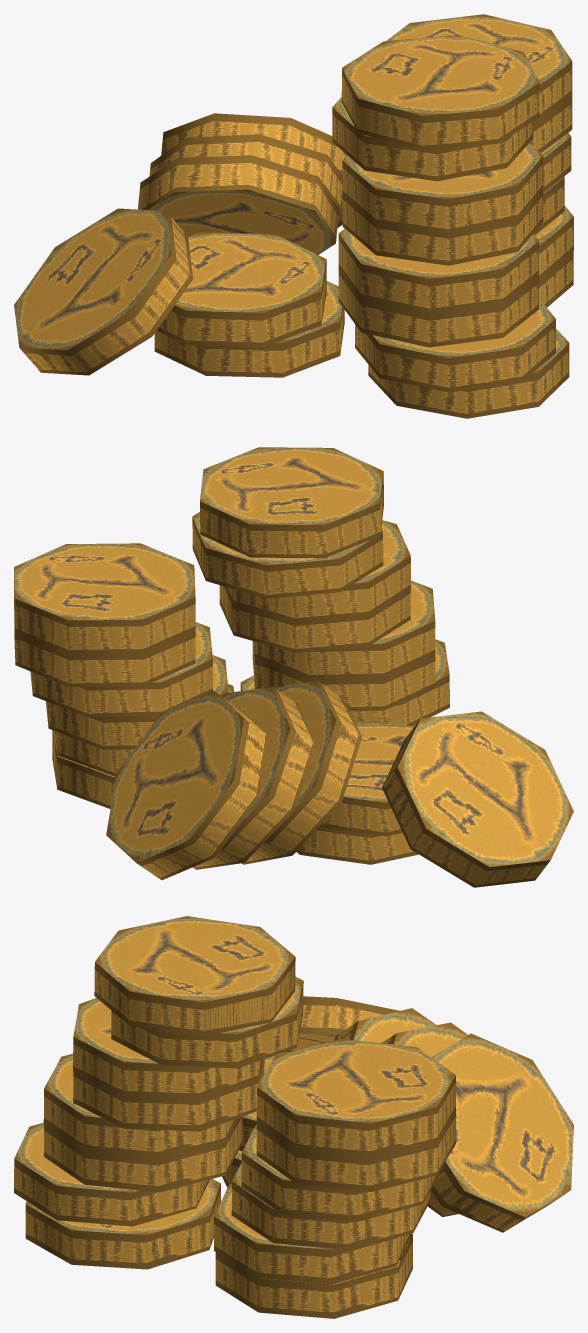
File: Coin.glb
3 views of the same model, one above another, from view 1: azimuth 30°, elevation 25°; view 2: azimuth 150°, elevation 25°; view 3: azimuth 270°, elevation 25° (orthographic). The views are drawn at different scales.
Parts seen in each view (by area): view 1: Coin; view 2: Coin; view 3: Coin.
Boxes of the visible parts, <box> form: Coin: <box>14,14,573,418</box>; Coin: <box>14,447,573,887</box>; Coin: <box>14,916,573,1318</box>.
Size of the model in its own units: 0.3276 by 0.1581 by 0.2926.
Materials: 1 (1 with a texture image).
